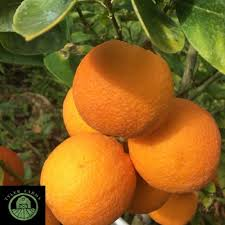orange: (69, 41, 177, 133), (37, 131, 136, 222), (129, 98, 220, 192)
